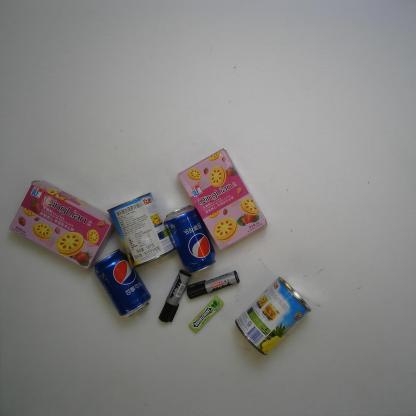Canned Food: (234, 276, 312, 356), (106, 192, 176, 269)
Dessert: (8, 178, 115, 270), (177, 148, 268, 252)
Drink: (93, 248, 152, 319), (163, 204, 217, 274)
Gum: (188, 296, 224, 333)
Stationery: (158, 268, 192, 324), (186, 270, 240, 300)
